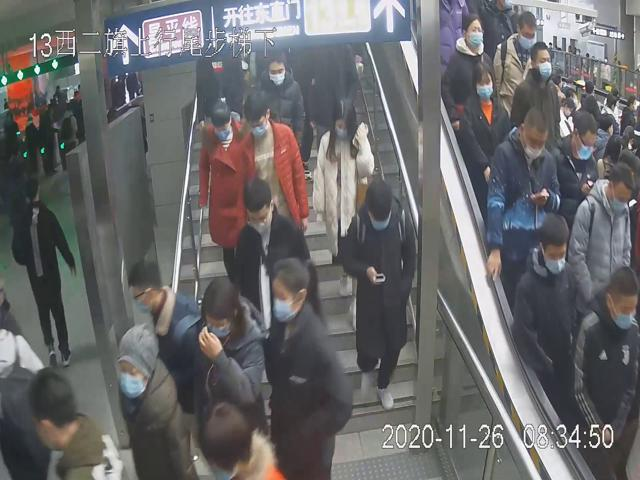person: (266, 251, 352, 480), (338, 172, 415, 411), (482, 105, 565, 284), (230, 176, 311, 354), (312, 93, 375, 303), (234, 84, 311, 248), (196, 96, 253, 282), (195, 274, 264, 419), (461, 60, 510, 210), (441, 13, 493, 131), (248, 50, 306, 149)
